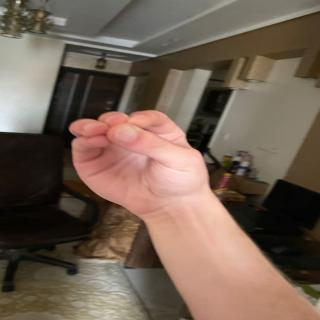HA: (52, 101, 230, 216)
